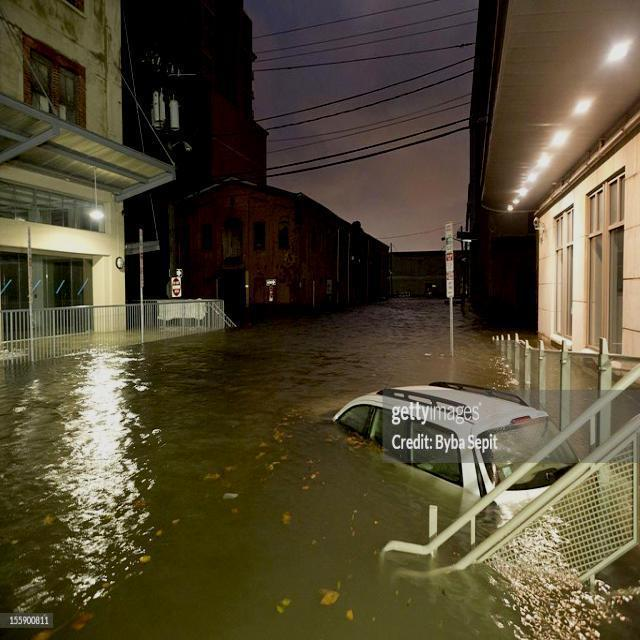water: (2, 296, 639, 638)
